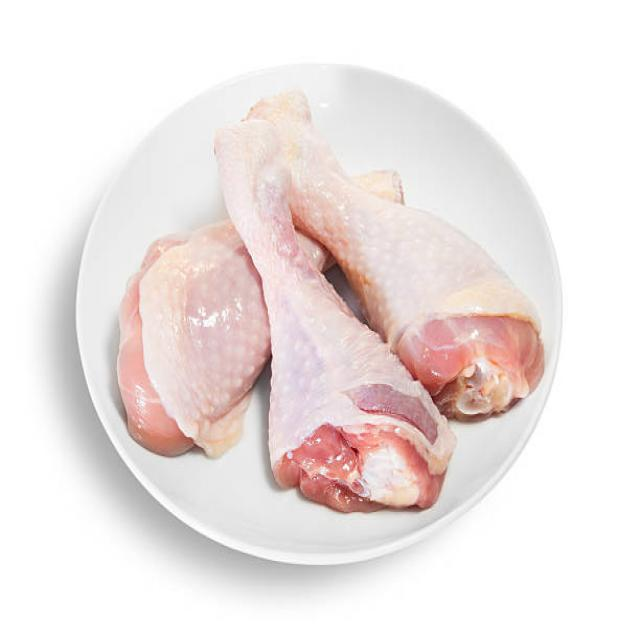Chicken Thigh: (218, 119, 440, 517), (308, 169, 542, 404)
